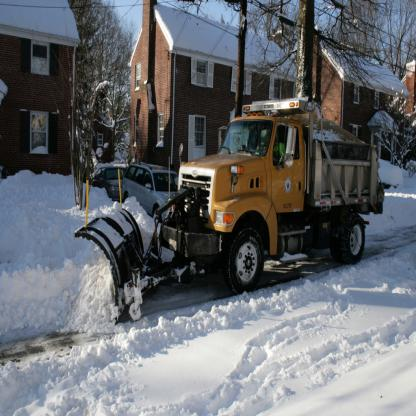Truck: (74, 96, 384, 321)
